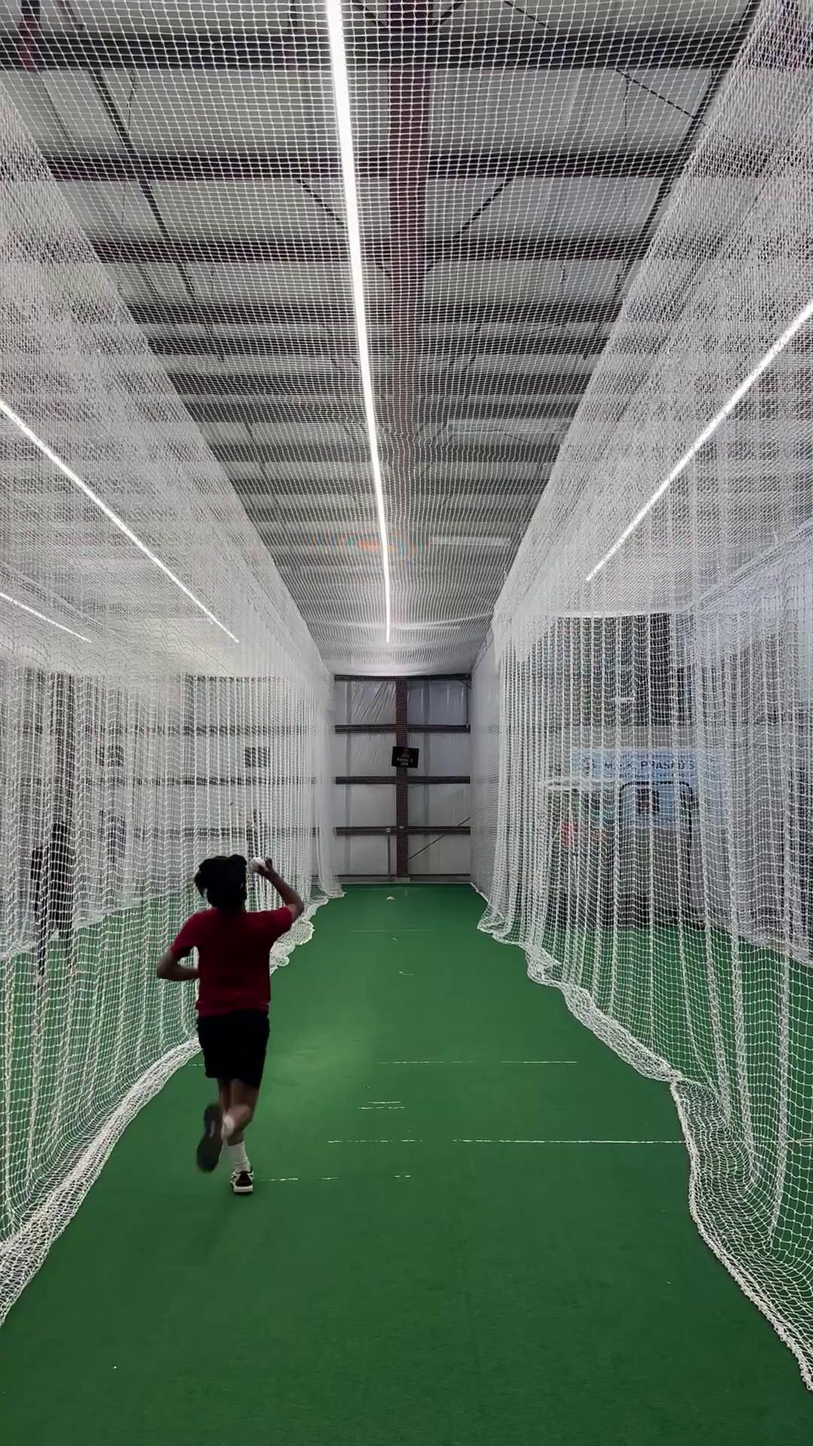ball: (246, 854, 272, 877)
